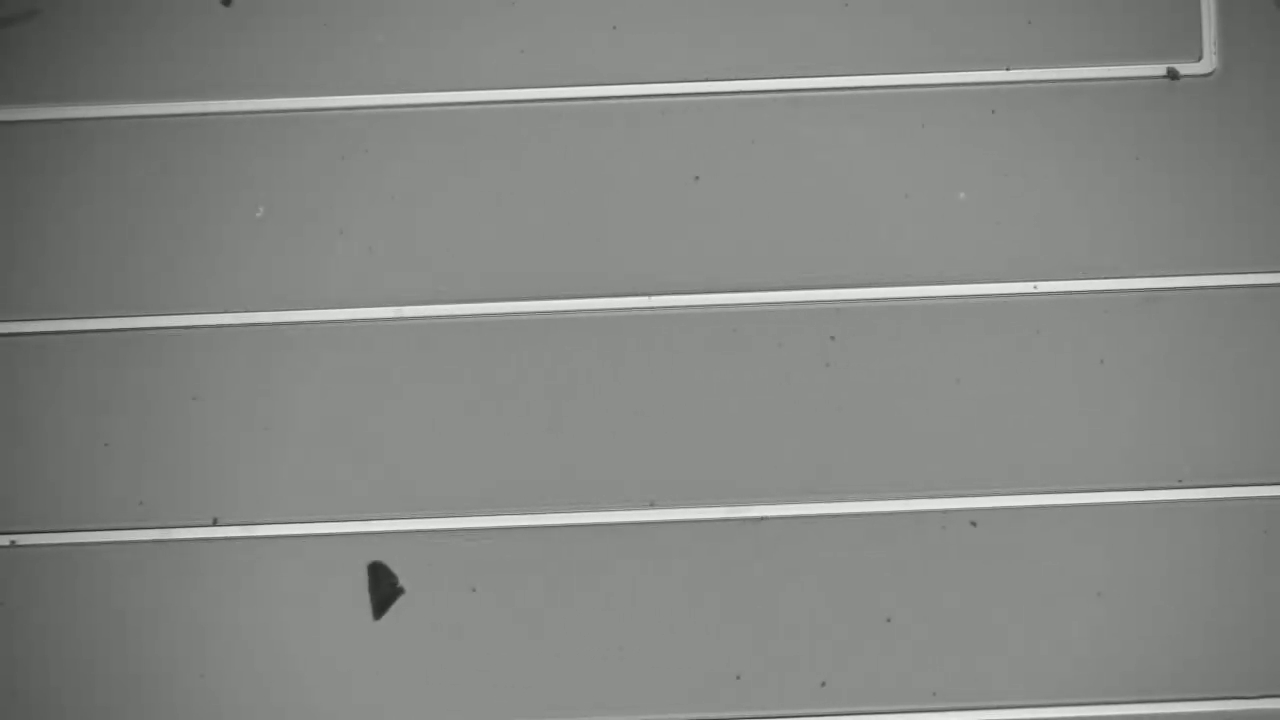stains_enbedded: (1161, 49, 1189, 91)
